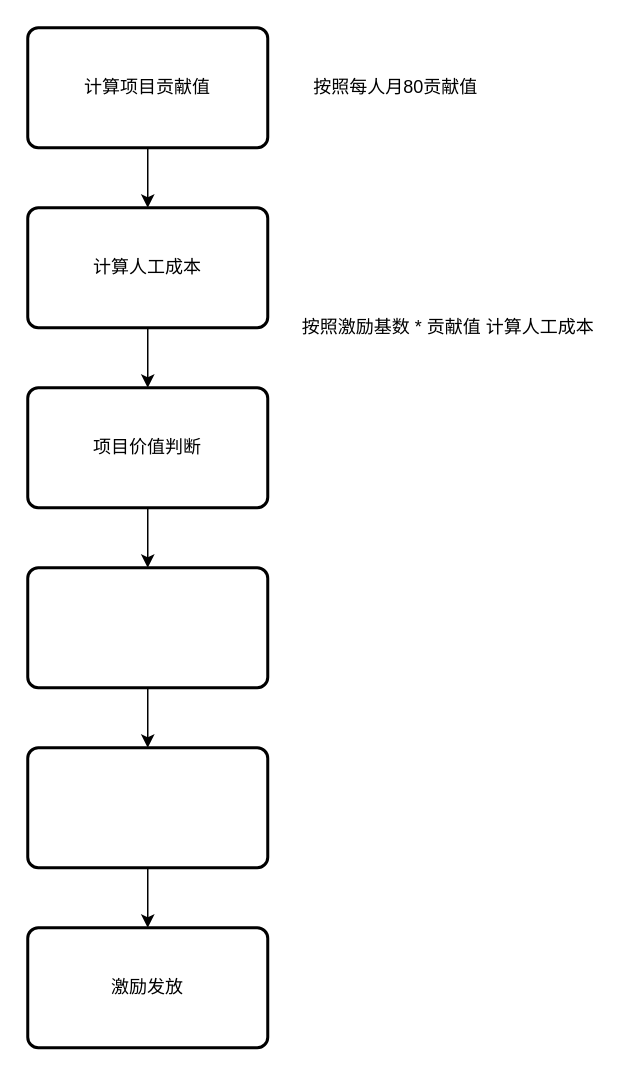
Image size: 638x1074. Some labels were removed from this diagram. Each missing label, with the box of its shape:
激励分配: (26, 746, 268, 868)
计算项目激励金额: (26, 566, 268, 688)
